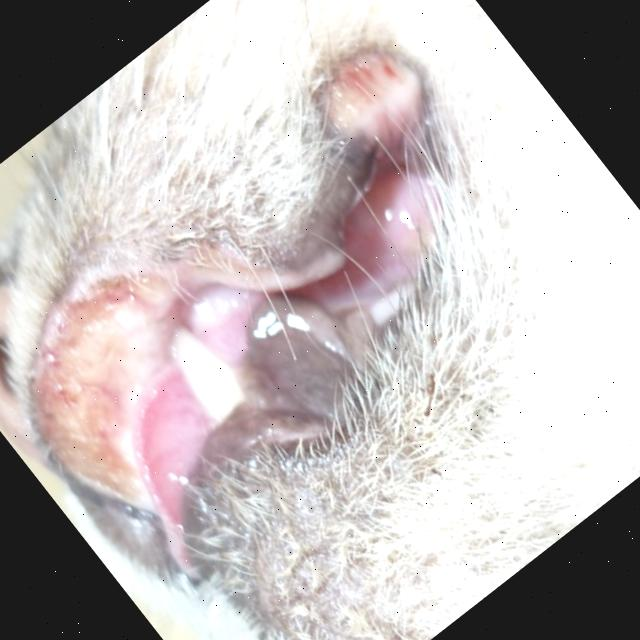cat-lump-and-bump: (22, 272, 246, 486), (293, 16, 450, 171)
